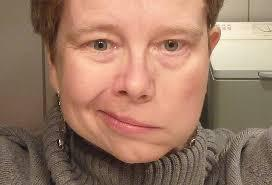strokeMouthSevere: (89, 108, 172, 137)
